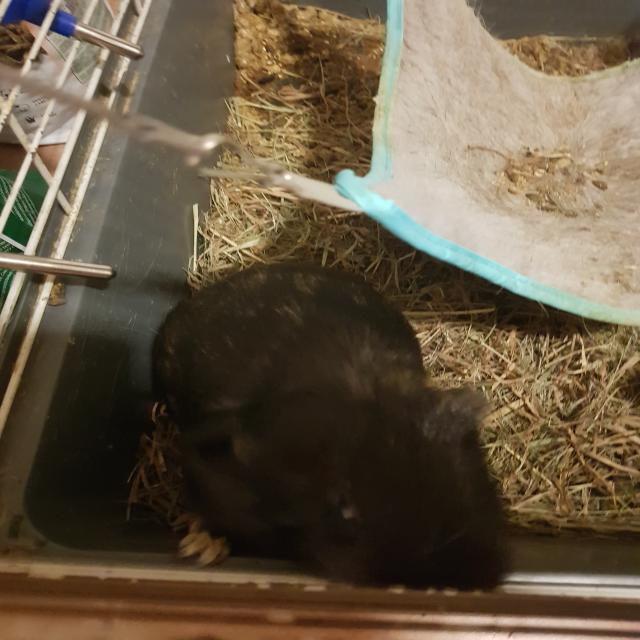guinea pig: (151, 259, 518, 595)
